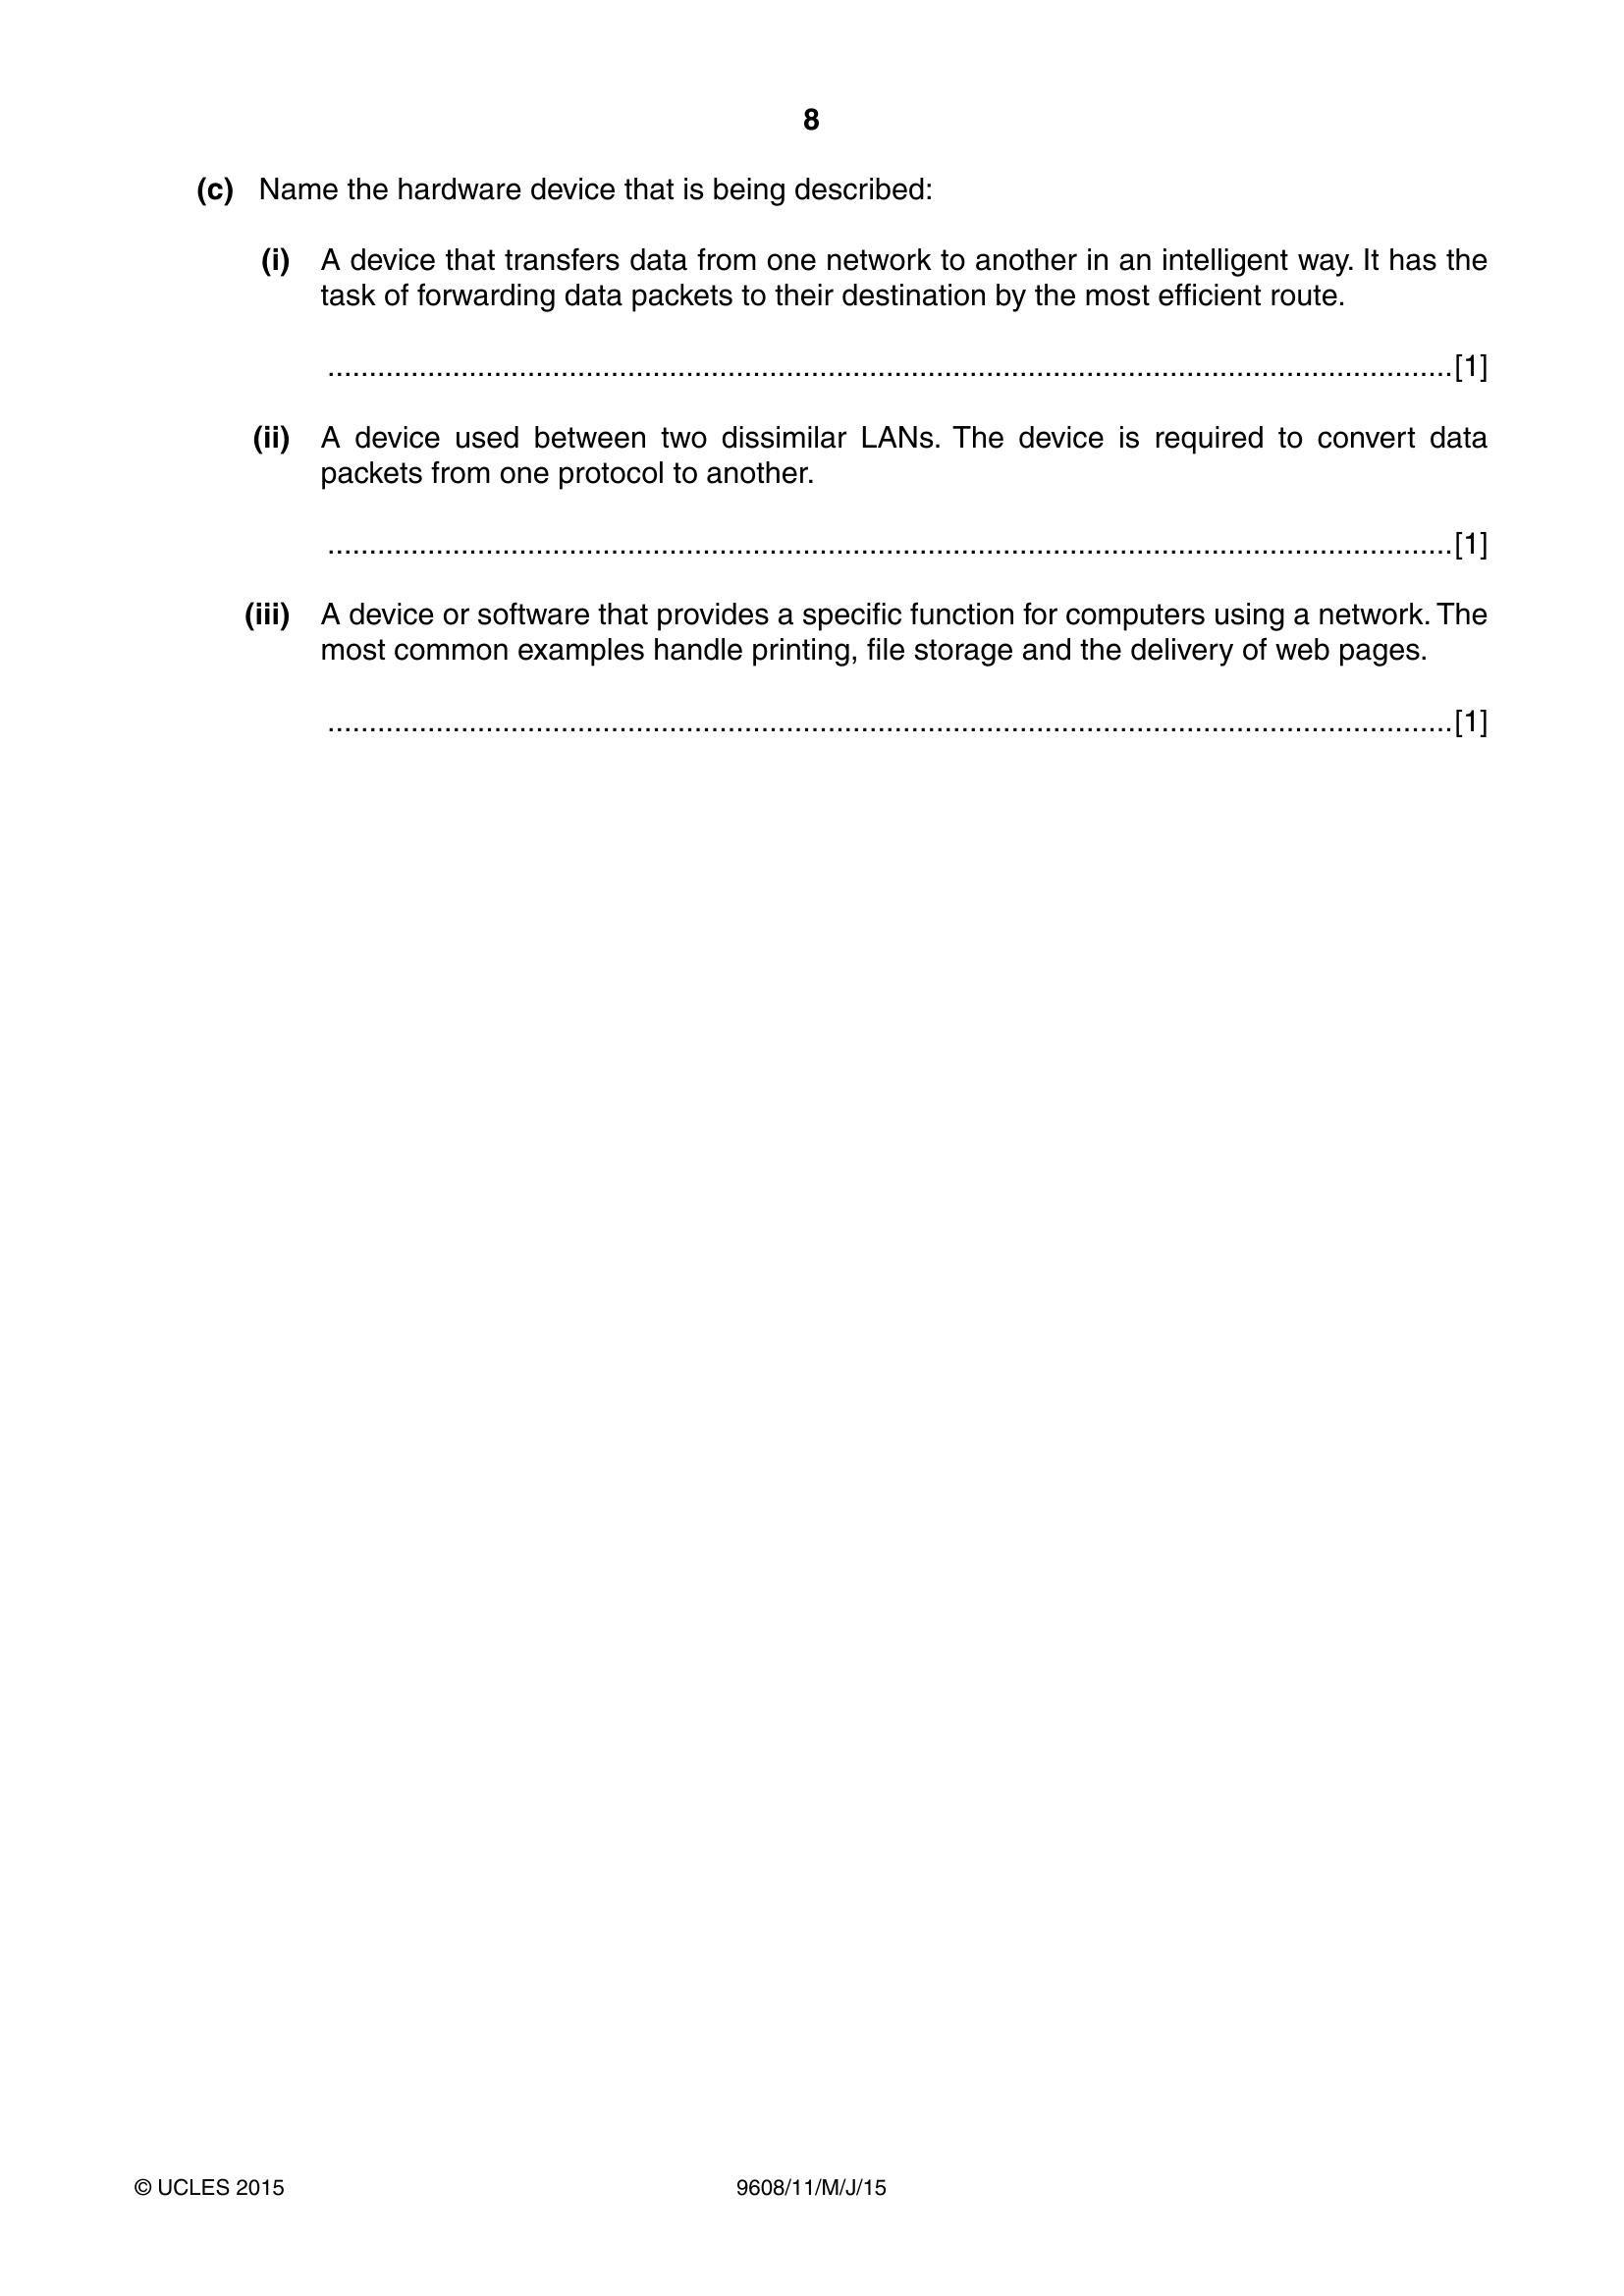continued question: (4, 144, 1624, 956)
